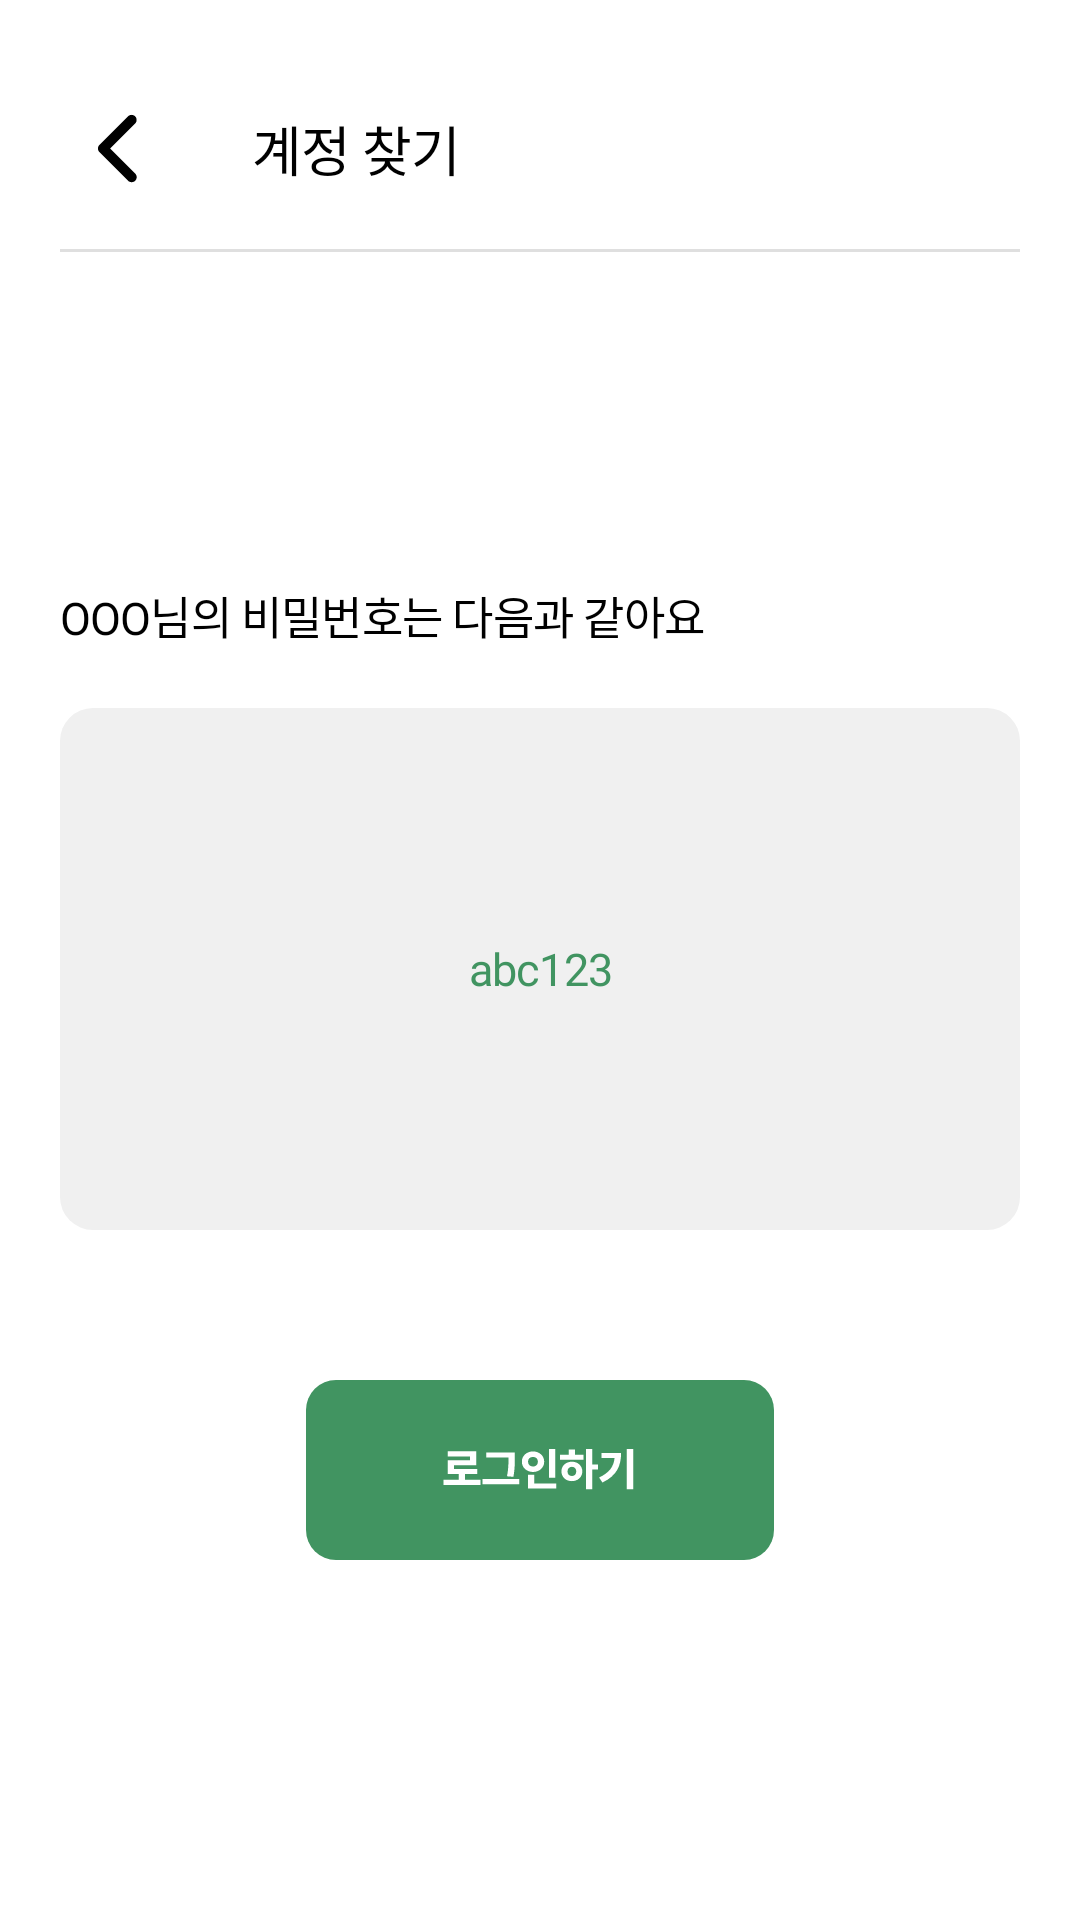

Where to tap for icons on this 1080x1920 app screen, as point (x, y):
뒤로가기: point (117, 149)
